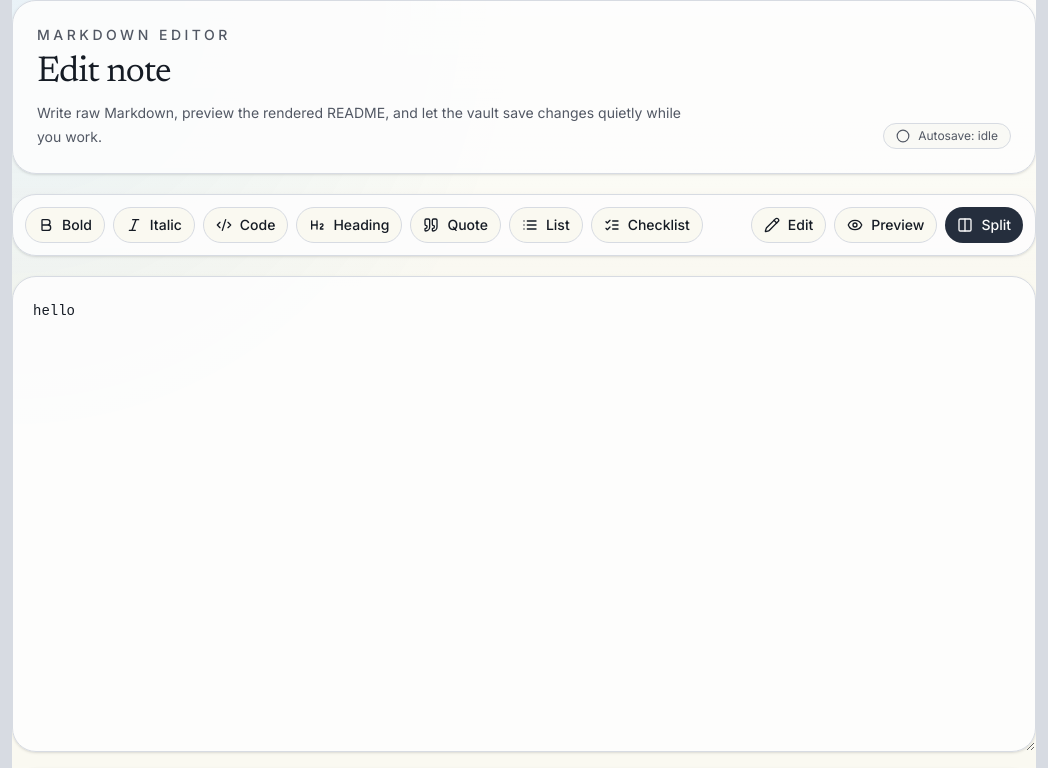
Test: NoteEditor › inserts bold Markdown around the current selection
Click the button "Bold": click(65, 225) [25,207,105,243]
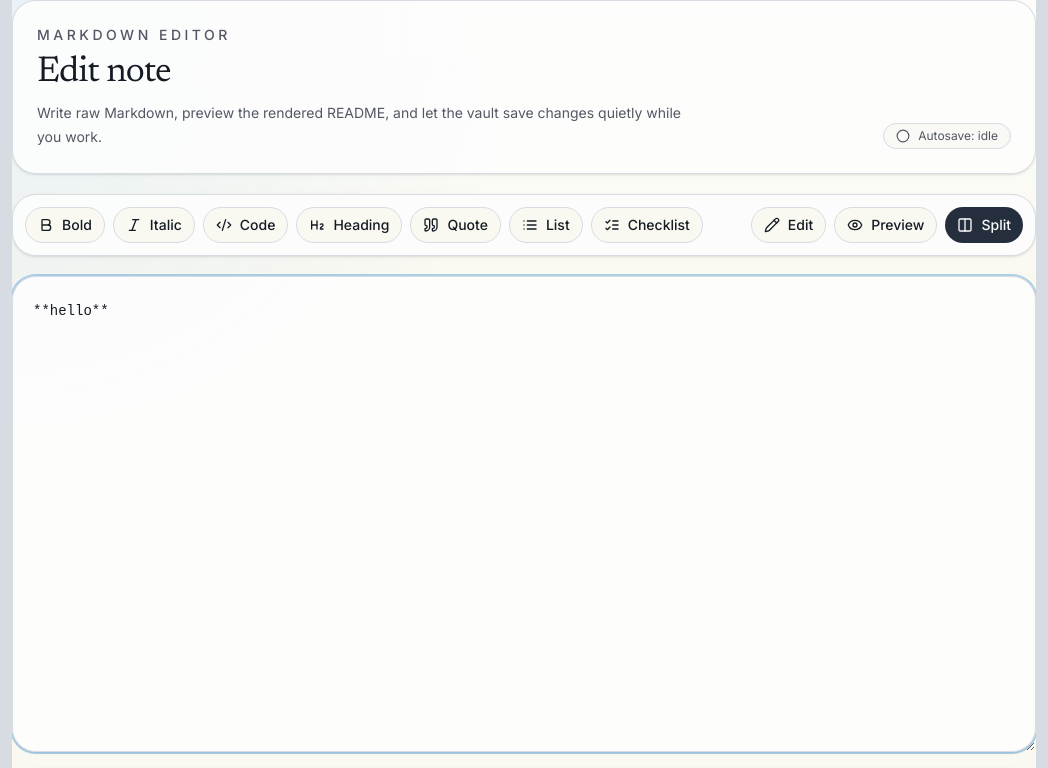
Check: the text box holds "**hello**"
